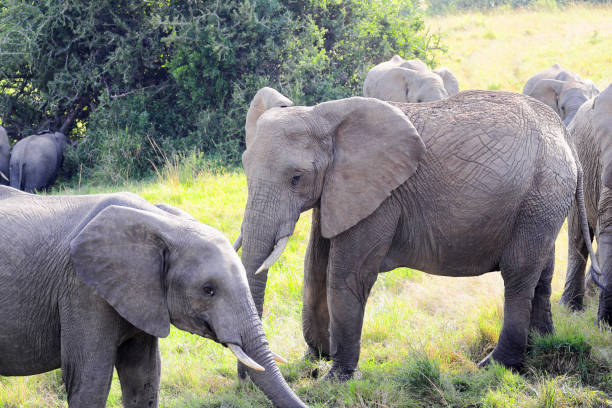africanelephant: (224, 85, 391, 313)
